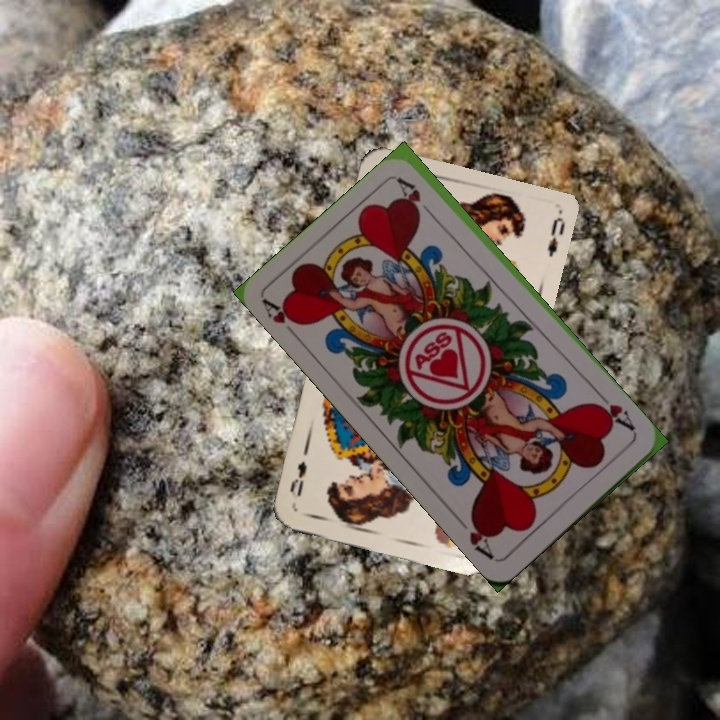HA: (589, 389, 639, 437), (259, 296, 306, 343)
